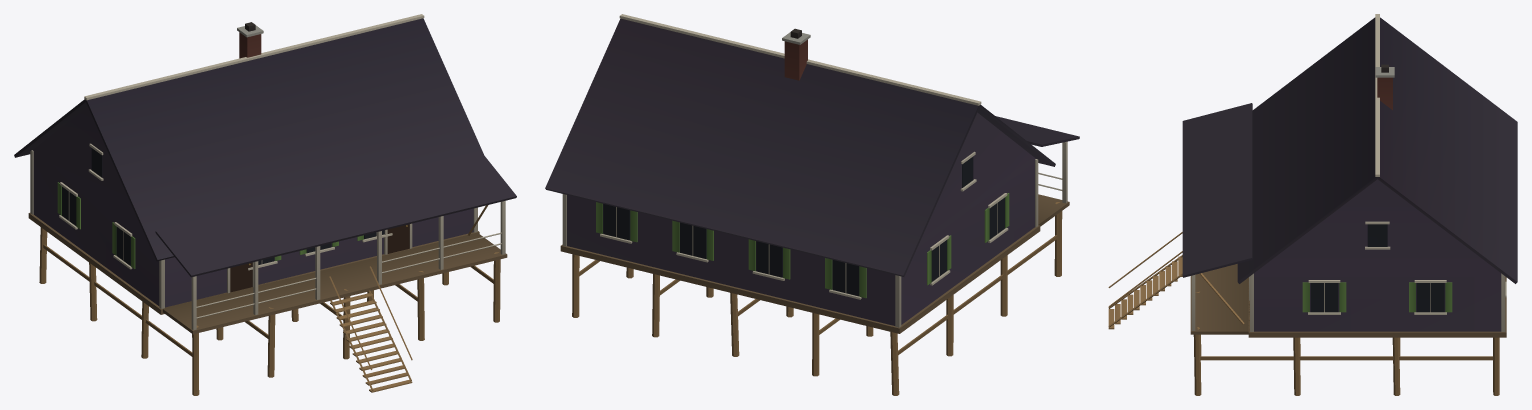
Rendered from shell_bayou_acadian.glb.
The picture shows the model from 3 angles, left to right: view 1: azimuth 30°, elevation 25°; view 2: azimuth 150°, elevation 25°; view 3: azimuth 270°, elevation 25°; orthographic projection. The views are drawn at different scales.
Parts seen in each view (by area): view 1: shell_bayou_acadian; view 2: shell_bayou_acadian; view 3: shell_bayou_acadian.
Boxes of the visible parts, <box> form: shell_bayou_acadian: <box>14,14,516,395</box>; shell_bayou_acadian: <box>545,14,1079,395</box>; shell_bayou_acadian: <box>1108,14,1517,395</box>.
Bounding box in the file's own units: 15.04 × 11.22 × 16.19.
